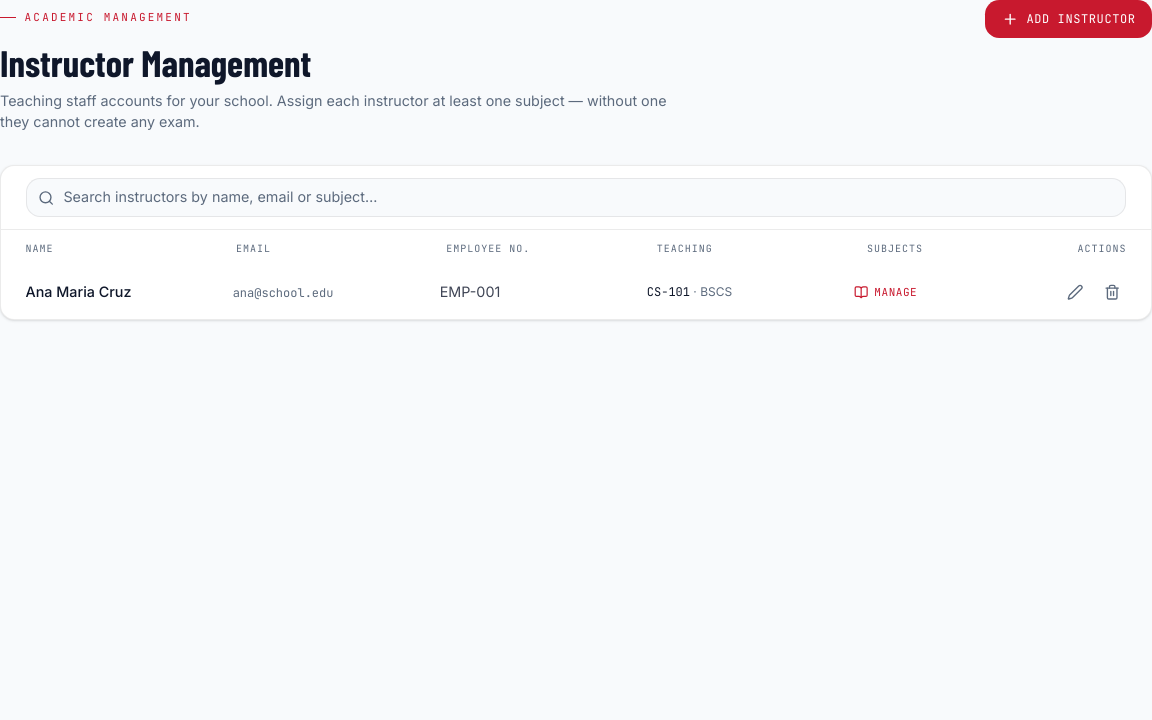
Test: Instructors — clicking Manage › opens only the subjects dialog, not the detail dialog behind it
Expected: the text "Ana Maria Cruz" is shown, x1=26 y1=283 x2=132 y2=300
Click the button "Manage".
click(886, 292)  # box x1=854 y1=285 x2=917 y2=300
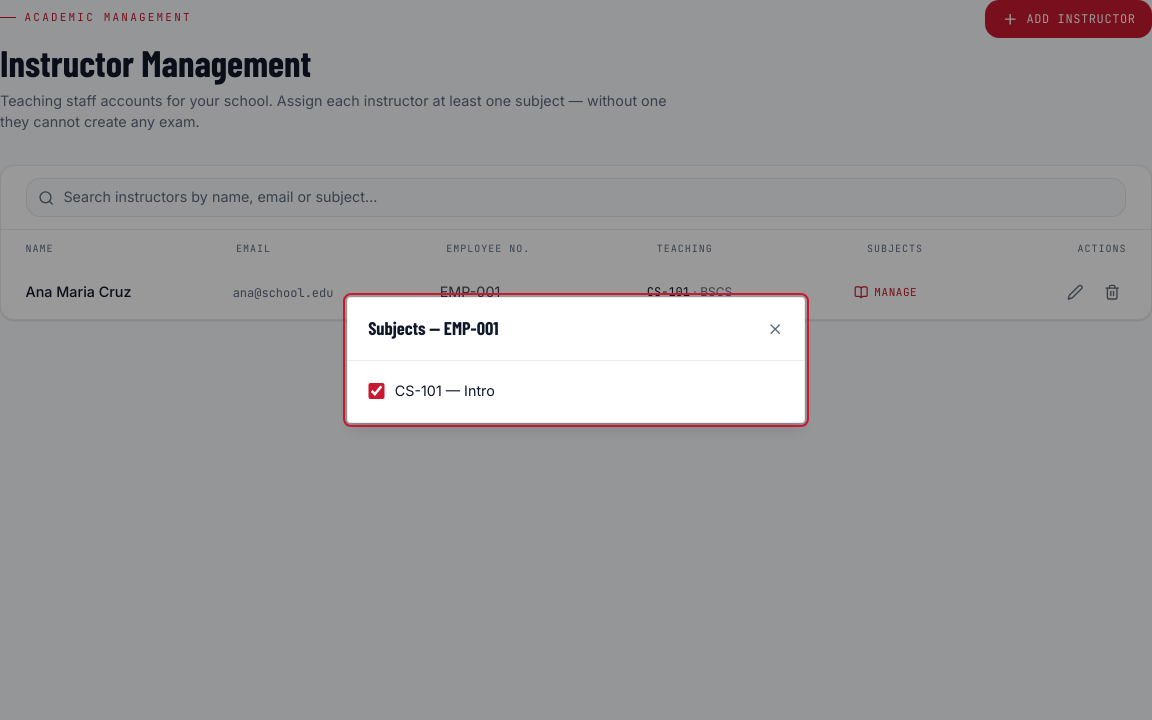
Result: the number of dialogs is 1 at x1=347 y1=297 x2=805 y2=423
Result: the dialog shows "Subjects" at x1=368 y1=318 x2=499 y2=340
